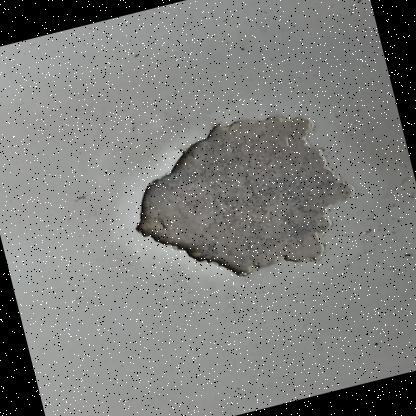Crack: (73, 39, 415, 359)
